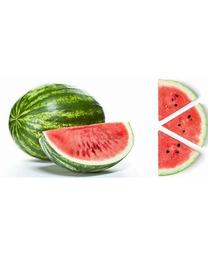watermelon: (9, 80, 134, 173), (156, 78, 205, 178)
